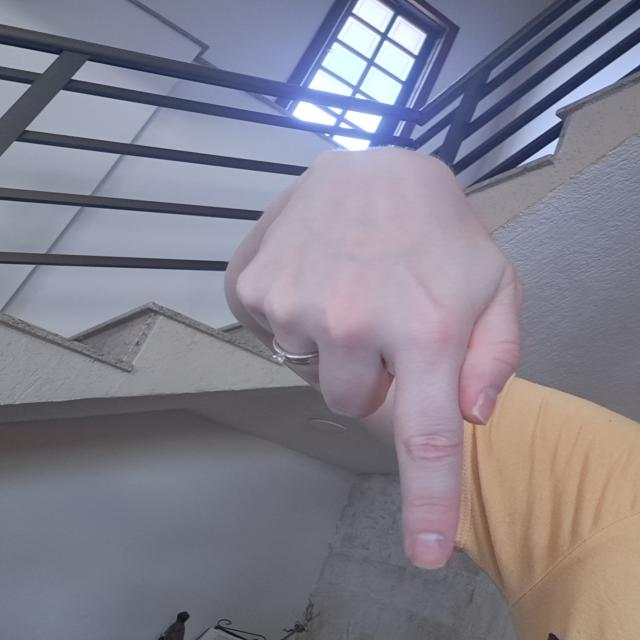Q: (227, 136, 531, 584)
